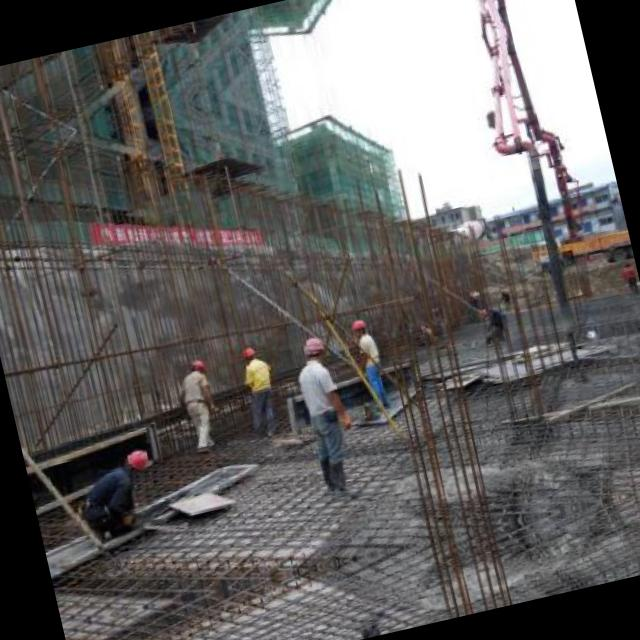helmet: (298, 332, 326, 364), (122, 444, 150, 474), (348, 314, 367, 336), (186, 356, 206, 376), (240, 346, 258, 362)
